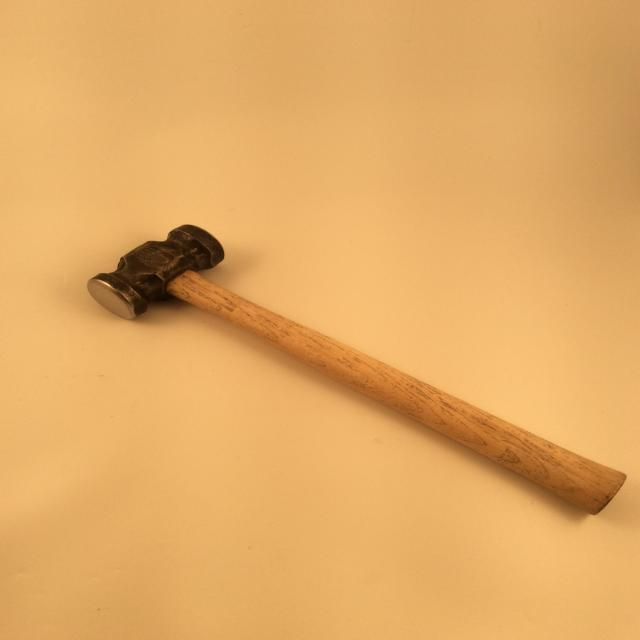hammer: (83, 218, 632, 522)
